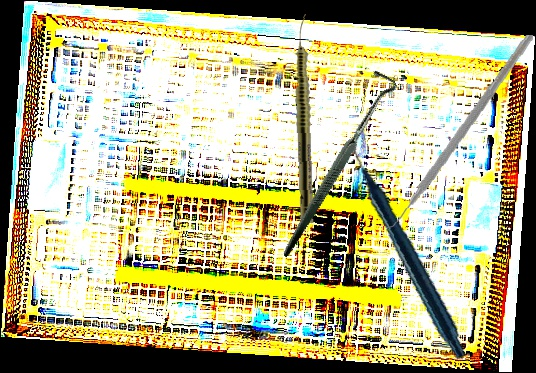Chopper: (373, 25, 533, 237)
Handpiece: (321, 132, 498, 361), (292, 13, 317, 224)
Hook Surgical: (226, 64, 444, 258)
